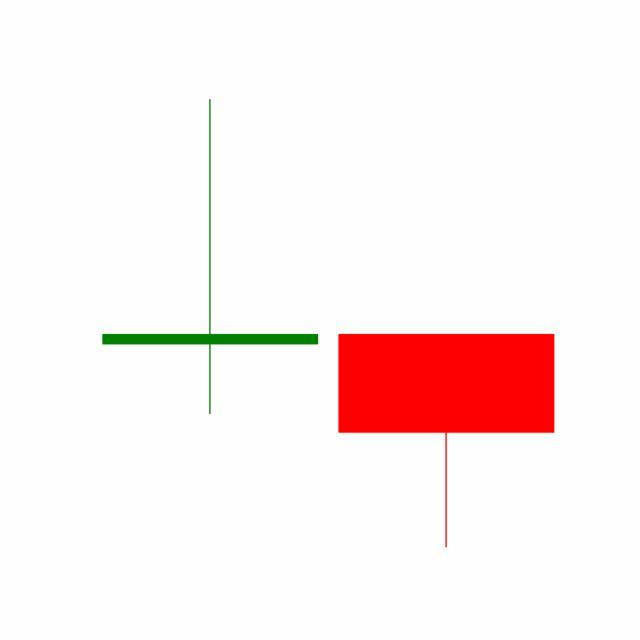Hammer: (328, 332, 566, 550)
